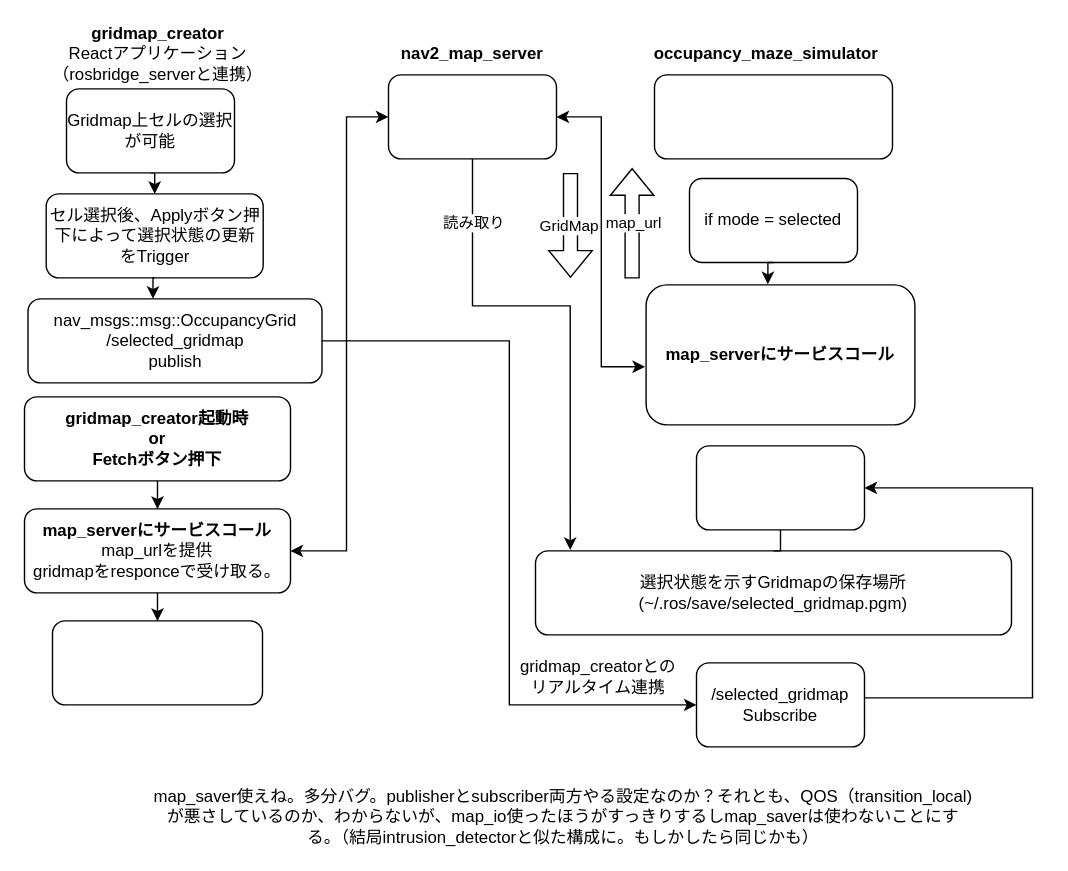
Image size: 1068x871. Some labels were removed from this diagram. Each missing label, with the centre of its shape:
"(include this in launch file） map_saver_server.launch.py launch" goes at pixel 772 116.
"map_ioのsaveMapToFileで GridMapを保存" goes at pixel 779 487.
"map_server" goes at pixel 471 116.
"結果をアプリ上で可視化" goes at pixel 156 662.
